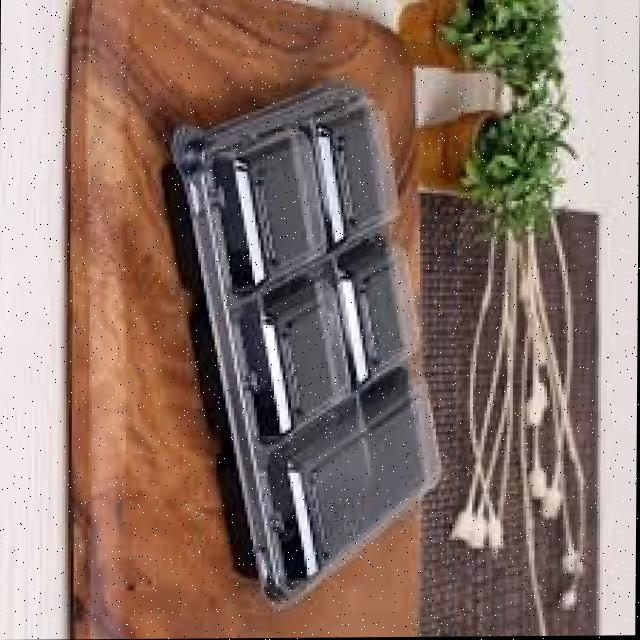disposable: (155, 69, 453, 613)
